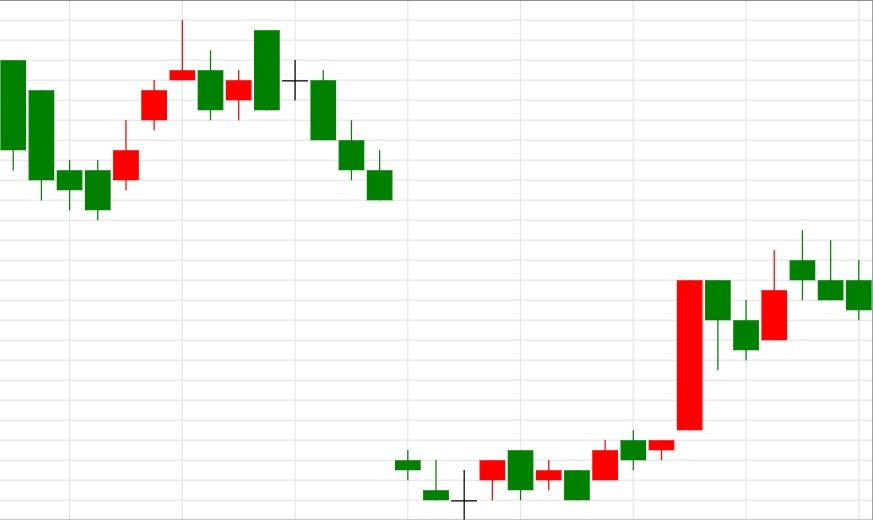three_black_crows_fall: (84, 20, 394, 222)
